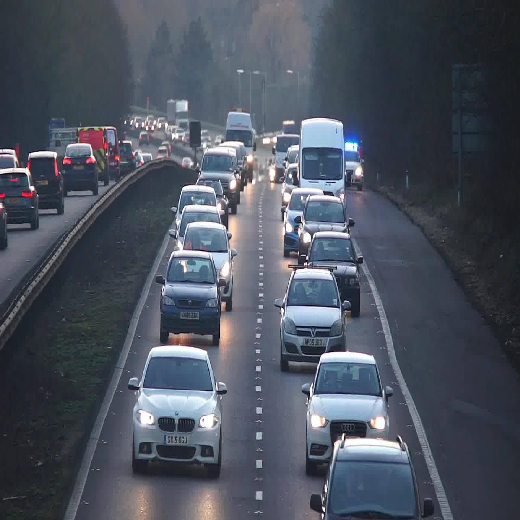license_plate: (161, 432, 190, 445), (177, 307, 199, 319), (301, 335, 324, 345)
vehicle: (126, 341, 226, 480), (272, 267, 351, 370), (153, 246, 226, 345)
